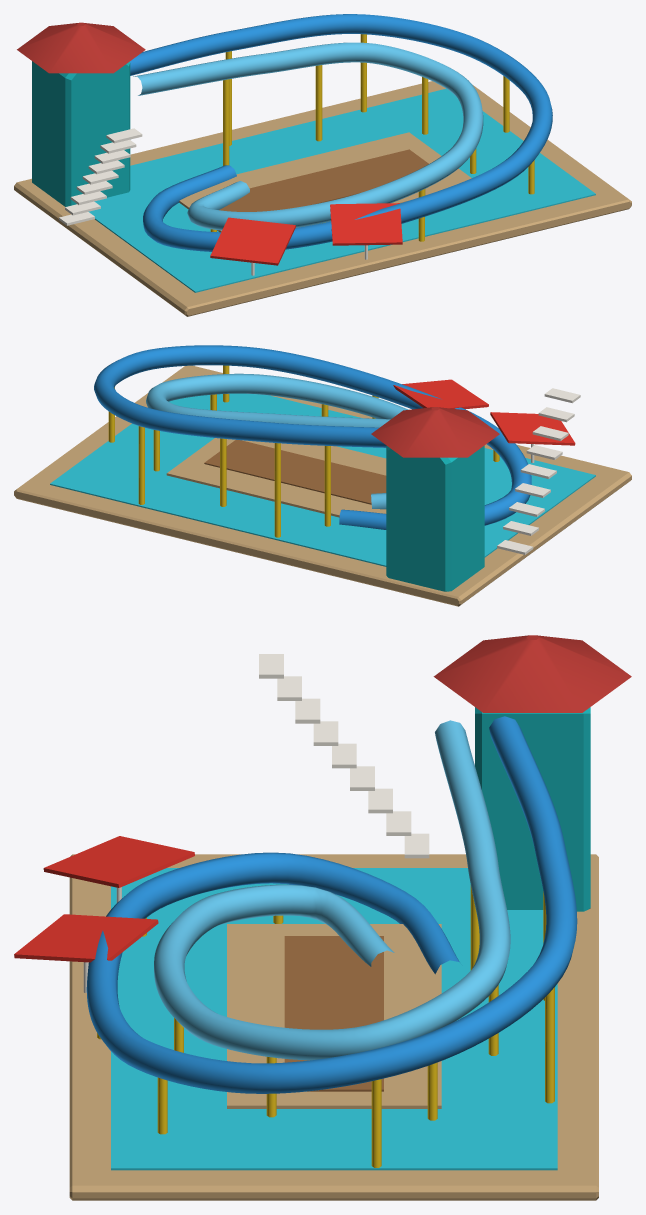
The model's file is water-park.glb.
3 renders of one model, top to bottom at view 1: azimuth 30°, elevation 25°; view 2: azimuth 150°, elevation 25°; view 3: azimuth 270°, elevation 25°, orthographic. The views are drawn at different scales.
Parts seen in each view (by area): view 1: lazy_river_water, pool_coping, flume_0, flume_1, slide_tower, river_deck, slide_tower_roof, pool_island, shade_sail_0, shade_sail_1, flume_column_1_2, flume_column_1_1; view 2: lazy_river_water, pool_coping, flume_0, slide_tower, flume_1, pool_island, river_deck, slide_tower_roof, shade_sail_0, shade_sail_1, flume_column_0_1, flume_column_1_1 (+2 smaller); view 3: lazy_river_water, pool_coping, flume_0, flume_1, pool_island, slide_tower, slide_tower_roof, river_deck, shade_sail_1, shade_sail_0, flume_column_0_2, flume_column_0_3.
Boxes of the visible parts, x1,y1,x2,y2 form: lazy_river_water: (88, 88, 595, 292); pool_coping: (14, 81, 631, 316); flume_0: (130, 14, 552, 251); flume_1: (133, 42, 483, 230); slide_tower: (32, 61, 130, 206); river_deck: (219, 149, 428, 211); slide_tower_roof: (17, 22, 145, 73); pool_island: (179, 132, 471, 232); shade_sail_0: (210, 217, 295, 265); shade_sail_1: (330, 203, 402, 245); flume_column_1_2: (315, 65, 322, 141); flume_column_1_1: (223, 79, 229, 165); lazy_river_water: (50, 393, 595, 566); pool_coping: (14, 365, 631, 606); flume_0: (94, 345, 531, 529); slide_tower: (386, 445, 484, 591); flume_1: (146, 373, 408, 509); pool_island: (166, 438, 386, 517); river_deck: (204, 440, 386, 504); slide_tower_roof: (371, 407, 499, 457); shade_sail_0: (490, 412, 575, 445); shade_sail_1: (393, 379, 488, 409); flume_column_0_1: (274, 443, 280, 537); flume_column_1_1: (324, 446, 330, 526); lazy_river_water: (111, 868, 557, 1170); pool_coping: (69, 854, 598, 1200); flume_0: (86, 716, 577, 1093); flume_1: (154, 720, 510, 1060); pool_island: (227, 924, 441, 1108); slide_tower: (475, 707, 590, 911); slide_tower_roof: (433, 635, 631, 712); river_deck: (284, 936, 383, 1091); shade_sail_1: (14, 914, 158, 962); shade_sail_0: (43, 836, 194, 887); flume_column_0_2: (545, 987, 554, 1103); flume_column_0_3: (371, 1079, 381, 1167).
Bounding box in the file's own units: 49 × 17.65 × 37.37.
